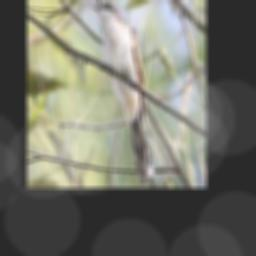Cuckoo: (89, 2, 155, 187)
